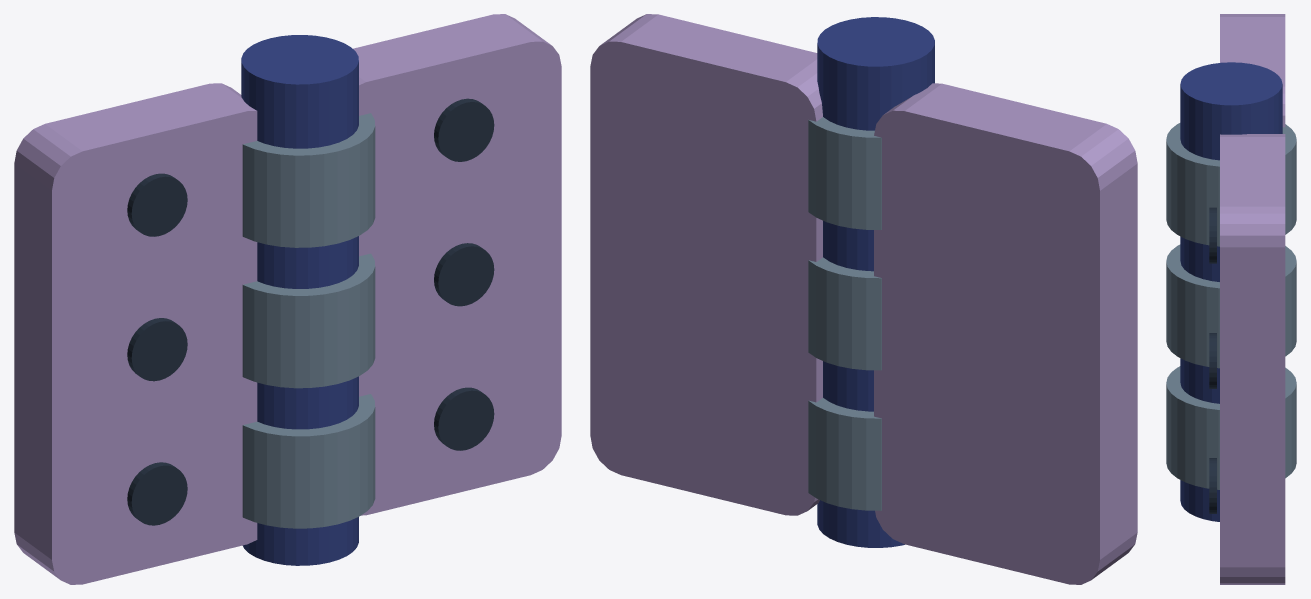
The model's file is hingeplate.glb.
The picture shows the model from 3 angles, left to right: view 1: azimuth 30°, elevation 25°; view 2: azimuth 150°, elevation 25°; view 3: azimuth 270°, elevation 25°; orthographic projection. The views are drawn at different scales.
Parts seen in each view (by area): view 1: leaf-1, leaf1, pin, fixing hole (×6), knuckle0.24, knuckle0.94, knuckle0.59; view 2: leaf-1, leaf1, pin, knuckle0.24, knuckle0.59, knuckle0.94; view 3: leaf1, pin, knuckle0.24, knuckle0.59, knuckle0.94, leaf-1, fixing hole (×3).
Part boxes in pixels (x1,y1,x2,y2): leaf-1: (14, 83, 257, 584); leaf1: (353, 14, 561, 515); pin: (241, 35, 358, 565); fixing hole (×6): (127, 98, 494, 525); knuckle0.24: (242, 394, 375, 528); knuckle0.94: (242, 113, 375, 247); knuckle0.59: (242, 253, 375, 388); leaf-1: (874, 83, 1137, 584); leaf1: (590, 14, 822, 515); pin: (817, 17, 934, 547); knuckle0.24: (808, 398, 881, 510); knuckle0.59: (808, 257, 881, 370); knuckle0.94: (808, 117, 881, 229); leaf1: (1220, 134, 1285, 584); pin: (1180, 62, 1282, 521); knuckle0.24: (1166, 366, 1296, 489); knuckle0.59: (1166, 244, 1296, 368); knuckle0.94: (1166, 123, 1296, 246); leaf-1: (1220, 14, 1285, 127); fixing hole (×3): (1209, 207, 1216, 513).
Bounding box in the file's own units: 1.33 × 1.2 × 0.34.
